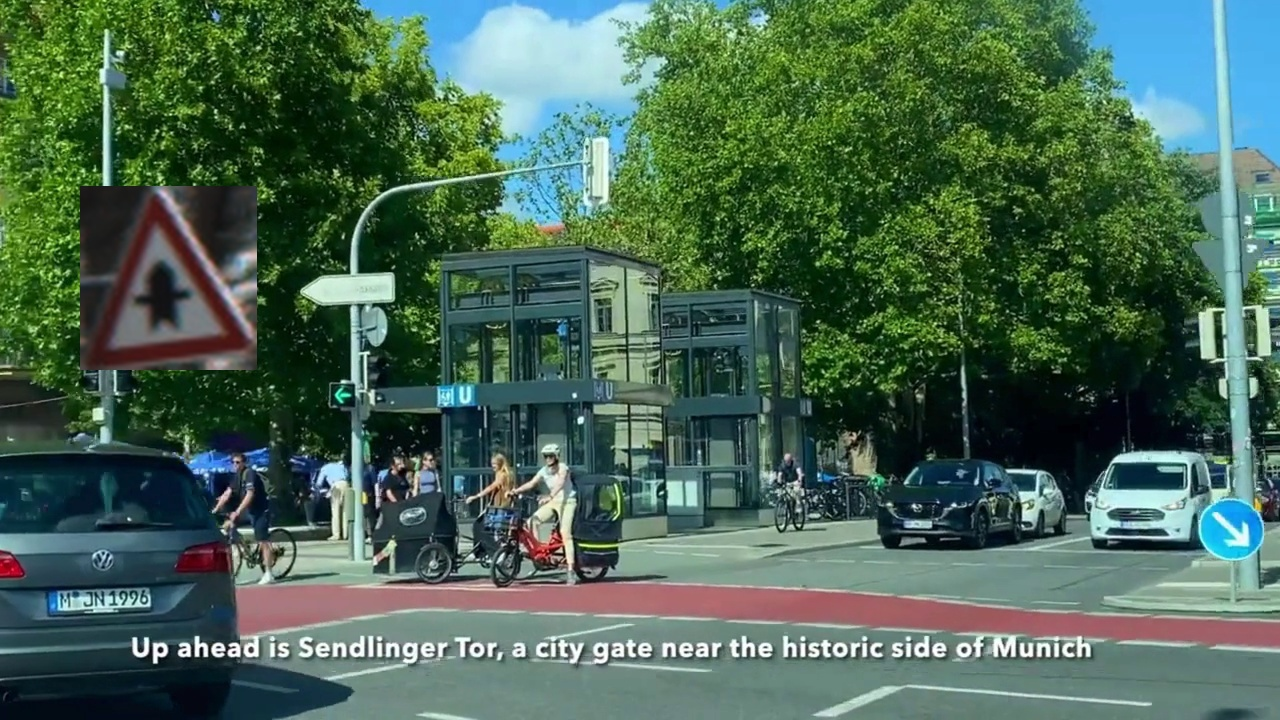Right-of-way: (80, 186, 257, 370)
